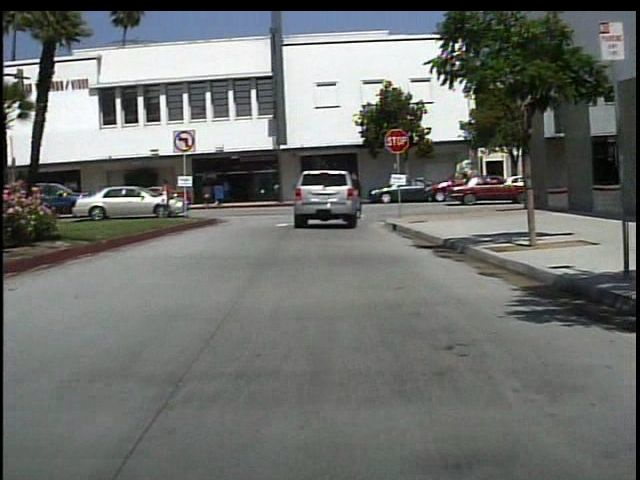person: (346, 170, 372, 225), (155, 174, 181, 219), (216, 177, 233, 206)
